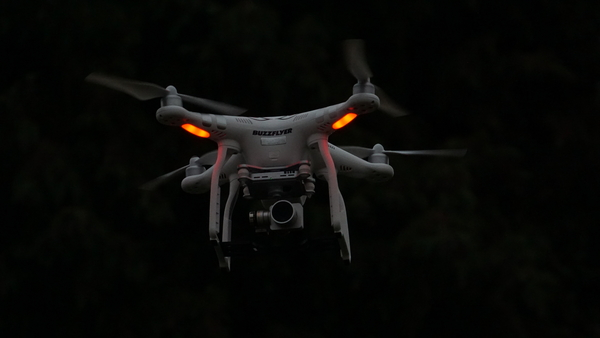drone: (118, 55, 445, 270)
